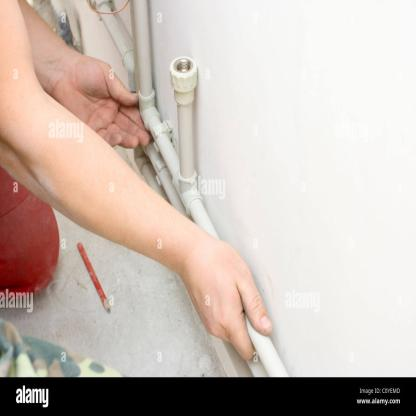PVC: (129, 2, 220, 240), (88, 0, 138, 91), (145, 139, 192, 221), (245, 318, 292, 377), (134, 145, 165, 197), (248, 354, 267, 377)
